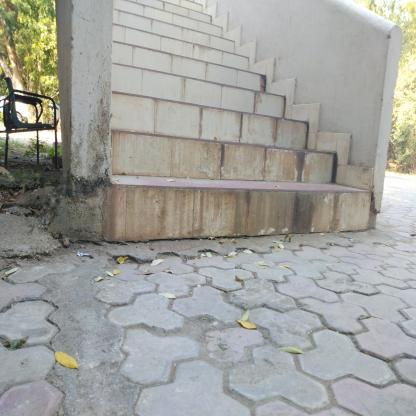stairs: (113, 39, 238, 266)
